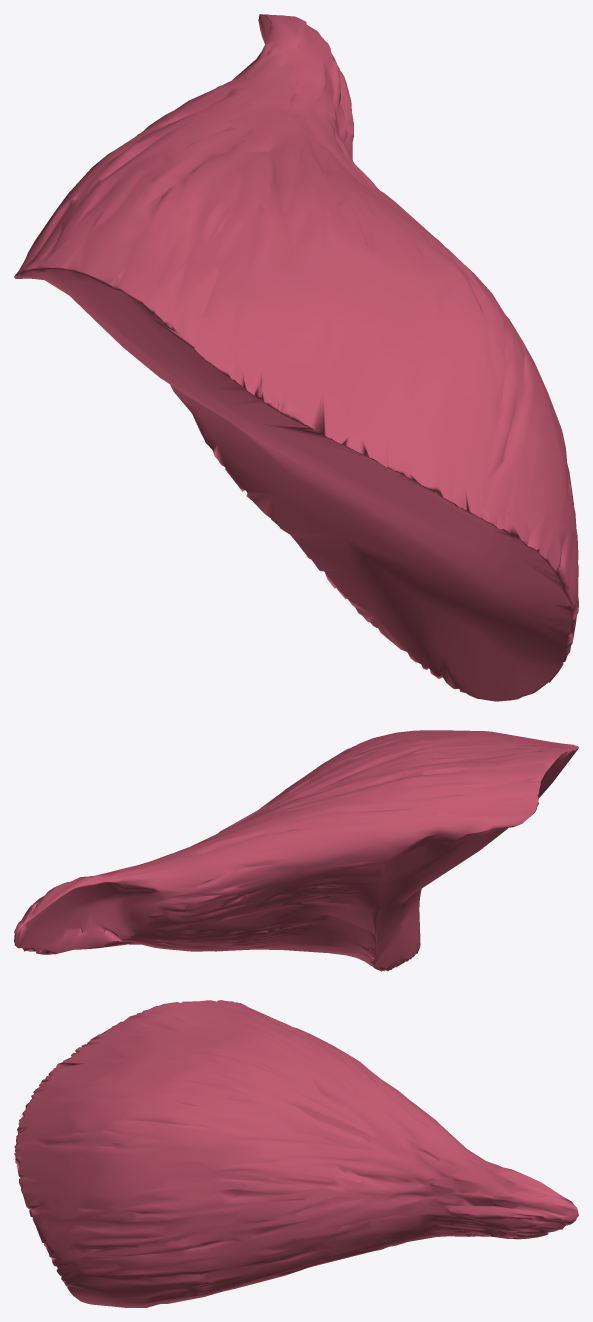
The picture shows the model from 3 angles, top to bottom: view 1: azimuth 30°, elevation 25°; view 2: azimuth 150°, elevation 25°; view 3: azimuth 270°, elevation 25°; orthographic projection. The views are drawn at different scales.
Visible parts, largest first — view 1: 左侧臀小肌; view 2: 左侧臀小肌; view 3: 左侧臀小肌.
Boxes of the visible parts, x1=… form: 左侧臀小肌: x1=14, y1=14, x2=578, y2=701; 左侧臀小肌: x1=14, y1=730, x2=578, y2=971; 左侧臀小肌: x1=14, y1=1000, x2=578, y2=1307.
Bounding box in the file's own units: 0.122 × 0.0895 × 0.1982.
